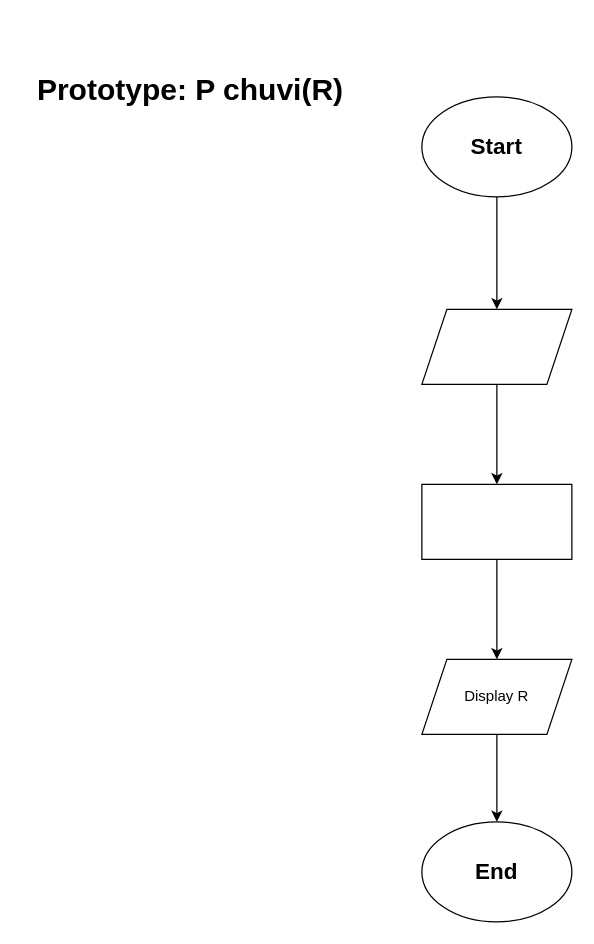
Image size: 594x944. Some labels were removed from this diagram. The shapes that lost their labels are listed below. From the top down, each one's centre as x and y in pixels, then its label:
At (x=496, y=346): "Input R".
At (x=496, y=521): "P=2*3.14*R".
